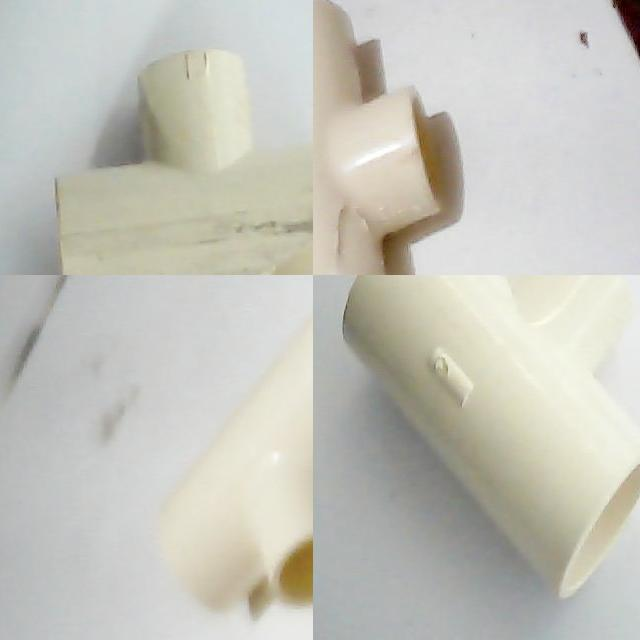Defective: (332, 195, 383, 275), (242, 222, 313, 275)
T Joint: (340, 275, 640, 602), (55, 50, 313, 275), (157, 314, 313, 622), (313, 0, 439, 275)
